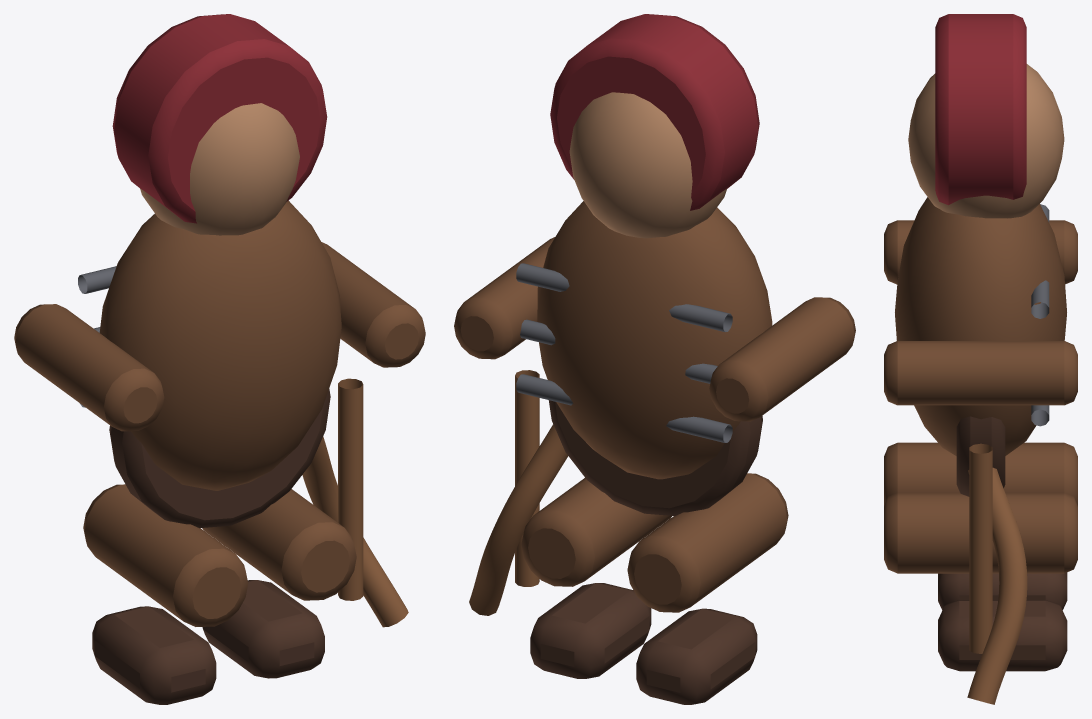
File: archer.glb
3 views of the same model, side by side, from view 1: azimuth 30°, elevation 25°; view 2: azimuth 150°, elevation 25°; view 3: azimuth 270°, elevation 25° (orthographic). The views are drawn at different scales.
Visible parts, largest first — view 1: TorsoMesh, Hood, LeftLegMesh, Head, LeftArmMesh, RightLegMesh, LeftLegBoot, Belt, RightLegBoot, RightArmMesh, WeaponHandle, Bow (+1 smaller); view 2: TorsoMesh, Hood, Head, LeftLegMesh, LeftArmMesh, RightLegMesh, LeftLegBoot, RightLegBoot, Belt, Bow, RightArmMesh, WeaponHandle (+3 smaller); view 3: TorsoMesh, Hood, RightArmMesh, RightLegMesh, Head, LeftLegMesh, Bow, RightLegBoot, WeaponHandle, Belt, LeftArmMesh, LeftLegBoot (+2 smaller).
Boxes of the visible parts, x1=… form: TorsoMesh: x1=99, y1=200, x2=341, y2=490; Hood: x1=112, y1=14, x2=327, y2=223; LeftLegMesh: x1=83, y1=484, x2=248, y2=626; Head: x1=140, y1=103, x2=299, y2=235; LeftArmMesh: x1=14, y1=304, x2=164, y2=431; RightLegMesh: x1=202, y1=489, x2=356, y2=600; LeftLegBoot: x1=92, y1=606, x2=216, y2=704; Belt: x1=109, y1=389, x2=330, y2=528; RightLegBoot: x1=202, y1=580, x2=324, y2=678; RightArmMesh: x1=321, y1=242, x2=425, y2=367; WeaponHandle: x1=338, y1=378, x2=363, y2=600; Bow: x1=302, y1=436, x2=408, y2=627; TorsoMesh: x1=537, y1=201, x2=772, y2=479; Hood: x1=550, y1=14, x2=759, y2=210; Head: x1=569, y1=92, x2=726, y2=238; LeftLegMesh: x1=627, y1=473, x2=788, y2=612; LeftArmMesh: x1=709, y1=297, x2=855, y2=421; RightLegMesh: x1=521, y1=478, x2=671, y2=586; LeftLegBoot: x1=636, y1=608, x2=757, y2=704; RightLegBoot: x1=530, y1=583, x2=651, y2=678; Belt: x1=548, y1=400, x2=762, y2=515; Bow: x1=469, y1=424, x2=567, y2=615; RightArmMesh: x1=454, y1=237, x2=554, y2=359; WeaponHandle: x1=515, y1=370, x2=539, y2=586; TorsoMesh: x1=895, y1=197, x2=1066, y2=455; Hood: x1=935, y1=14, x2=1026, y2=205; RightArmMesh: x1=884, y1=341, x2=1077, y2=405; RightLegMesh: x1=884, y1=492, x2=1077, y2=573; Head: x1=908, y1=64, x2=1064, y2=218; LeftLegMesh: x1=884, y1=442, x2=1077, y2=505; Bow: x1=967, y1=467, x2=1027, y2=704; RightLegBoot: x1=938, y1=600, x2=1067, y2=671; WeaponHandle: x1=969, y1=443, x2=992, y2=653; Belt: x1=956, y1=416, x2=1005, y2=496; LeftArmMesh: x1=884, y1=220, x2=1077, y2=284; LeftLegBoot: x1=938, y1=572, x2=1067, y2=610.
Bounding box in the file's own units: 1.41 × 2.52 × 0.72.
